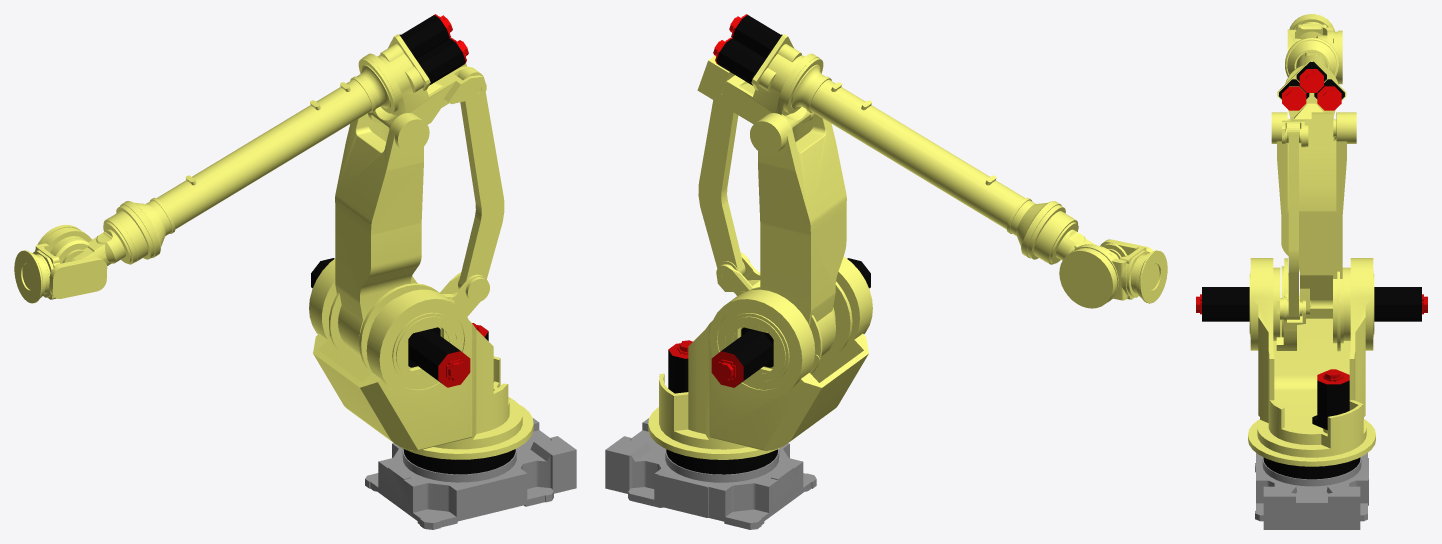
Rendered from Robot.glb.
3 renders of one model, left to right at view 1: azimuth 30°, elevation 25°; view 2: azimuth 150°, elevation 25°; view 3: azimuth 270°, elevation 25°, orthographic. The views are drawn at different scales.
Visible parts, largest first — view 1: 111; view 2: 111; view 3: 111.
Part boxes in pixels (<box>): 111: <box>14,14,576,529</box>; 111: <box>605,14,1167,529</box>; 111: <box>1196,14,1427,529</box>.
Bounding box in the file's own units: 2.8 × 2.46 × 1.24.
